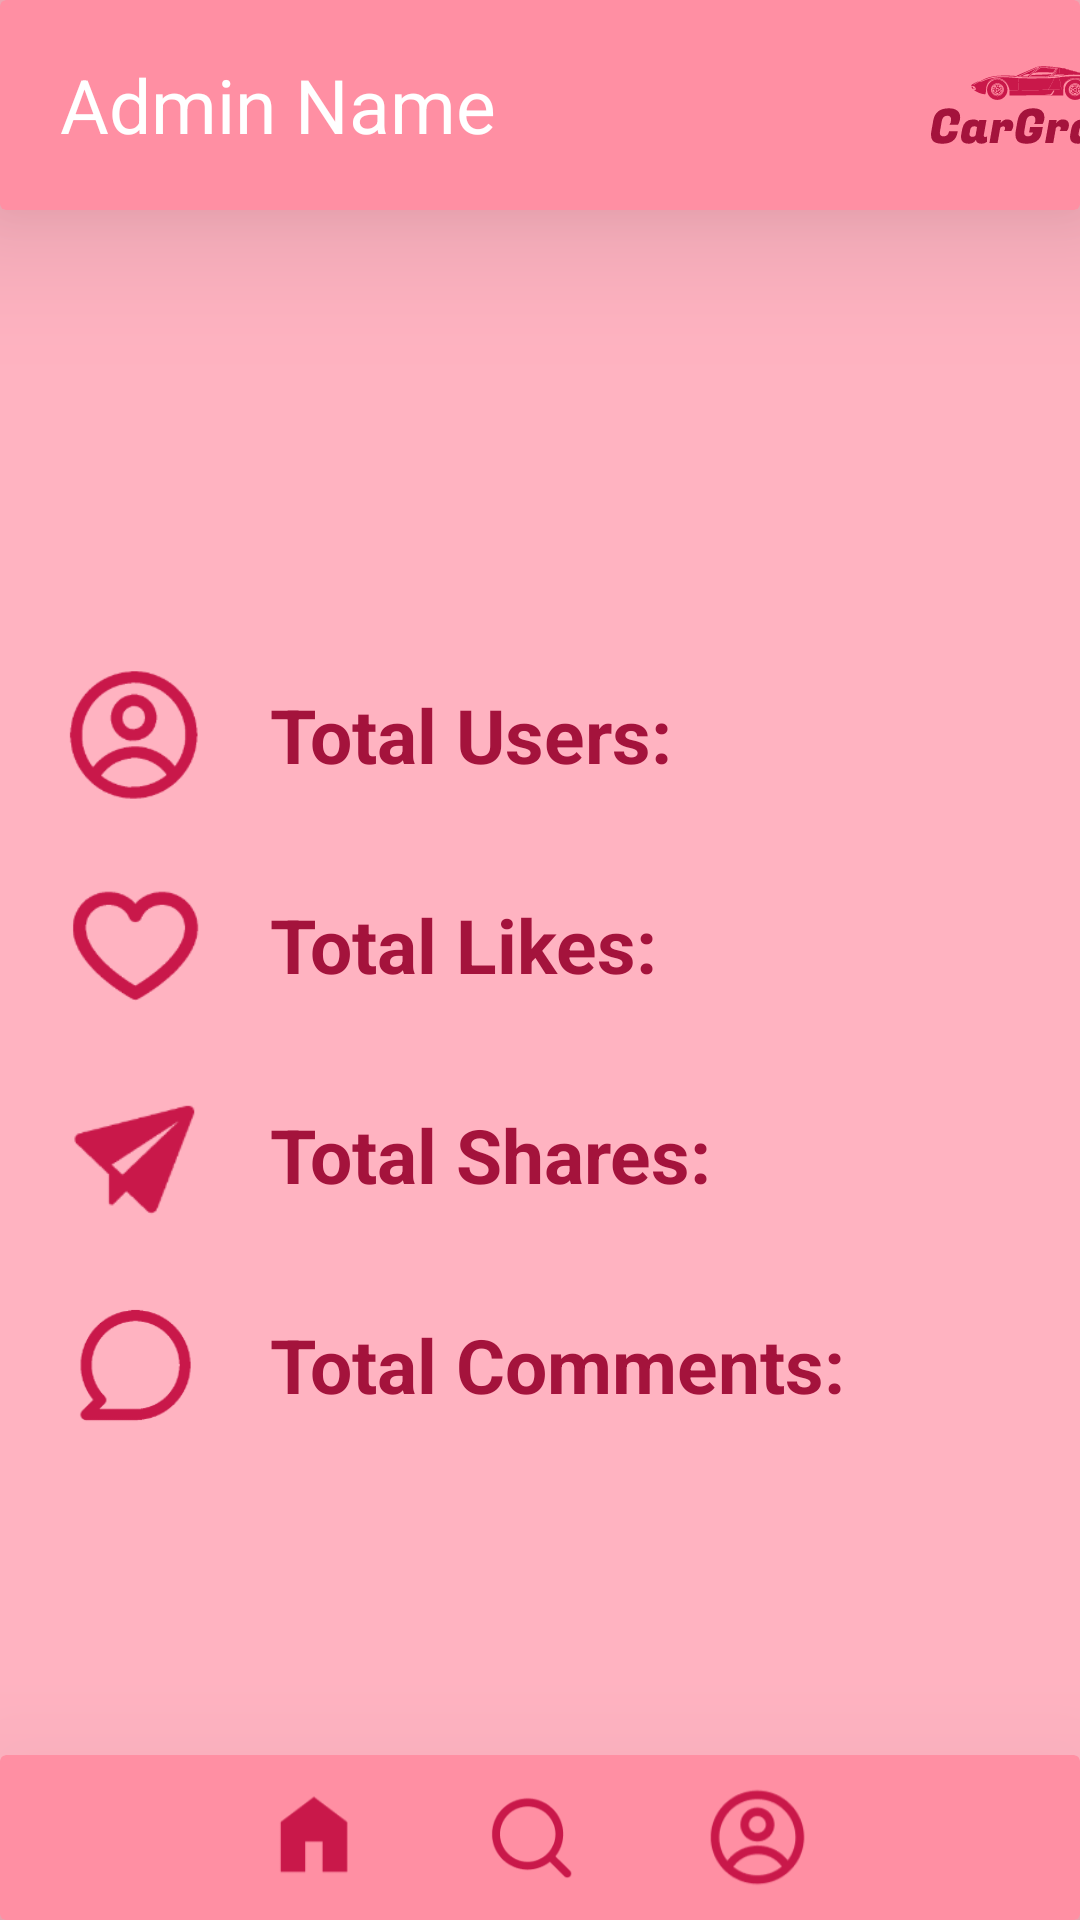

Icons on this 1080w x 1920h Android screen, each with its box as (x1, y1, x2, y2):
cmntbtncolor: (80, 1310, 191, 1421)
homebtn: (280, 1797, 348, 1873)
liekbtncolor: (73, 891, 199, 1000)
profilebtn: (710, 1790, 805, 1885)
profilebtncolor: (70, 671, 198, 799)
searchbtn: (492, 1798, 572, 1878)
sharebtncolor: (74, 1105, 195, 1213)
